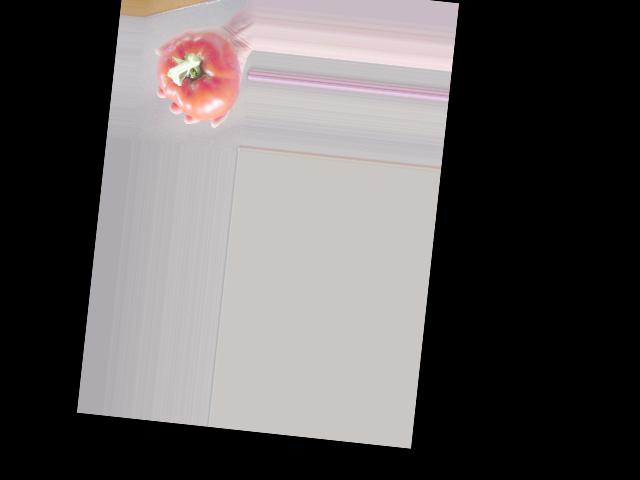tomato: (152, 28, 245, 124)
